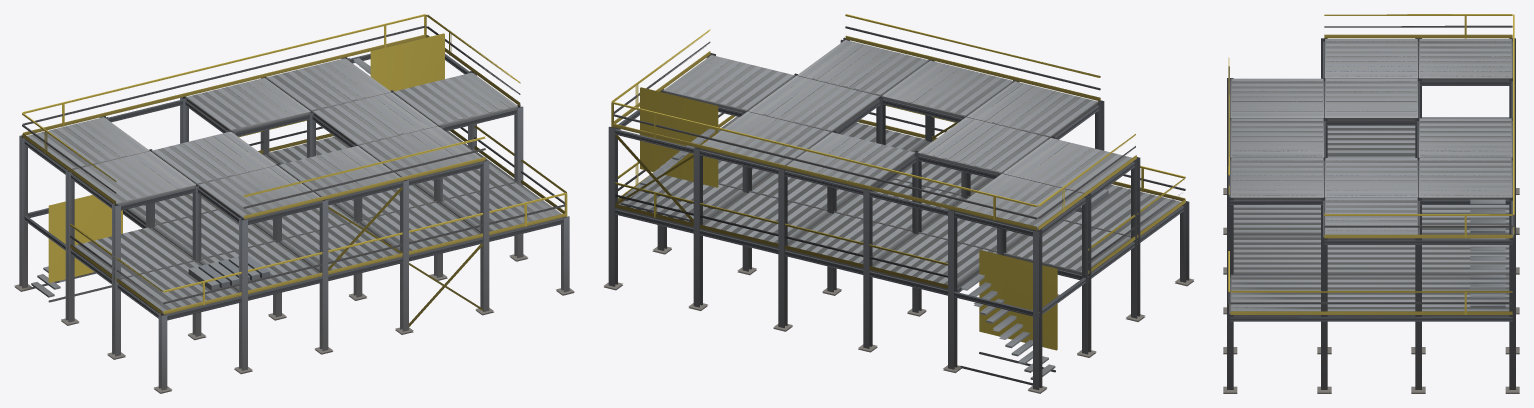
File: frame.lod.glb
3 renders of one model, left to right at view 1: azimuth 30°, elevation 25°; view 2: azimuth 150°, elevation 25°; view 3: azimuth 270°, elevation 25°, orthographic. The views are drawn at different scales.
Visible parts, largest first — view 1: frame; view 2: frame; view 3: frame.
Boxes of the visible parts, bbox=[...] form: frame: bbox=[14, 14, 574, 393]; frame: bbox=[604, 14, 1193, 393]; frame: bbox=[1223, 14, 1519, 393].
Bounding box in the file's own units: 20.6 × 8.32 × 12.6.
